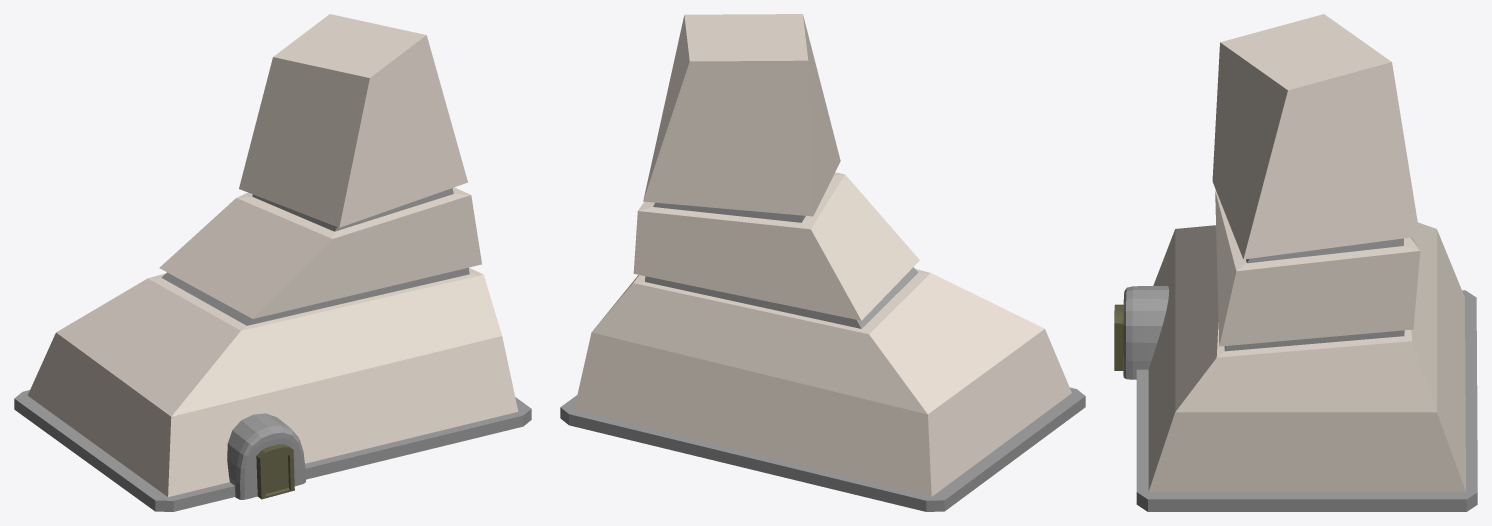
File: aparmentbuildings_medium.fbx
3 renders of one model, left to right at view 1: azimuth 30°, elevation 25°; view 2: azimuth 150°, elevation 25°; view 3: azimuth 270°, elevation 25°, orthographic. The views are drawn at different scales.
Visible parts, largest first — view 1: Cube.002; view 2: Cube.002; view 3: Cube.002.
Boxes of the visible parts, x1,y1,x2,y2 form: Cube.002: [14, 14, 531, 511]; Cube.002: [560, 14, 1085, 511]; Cube.002: [1114, 14, 1477, 511].
Bounding box in the file's own units: 4067 × 4912 × 5535.
